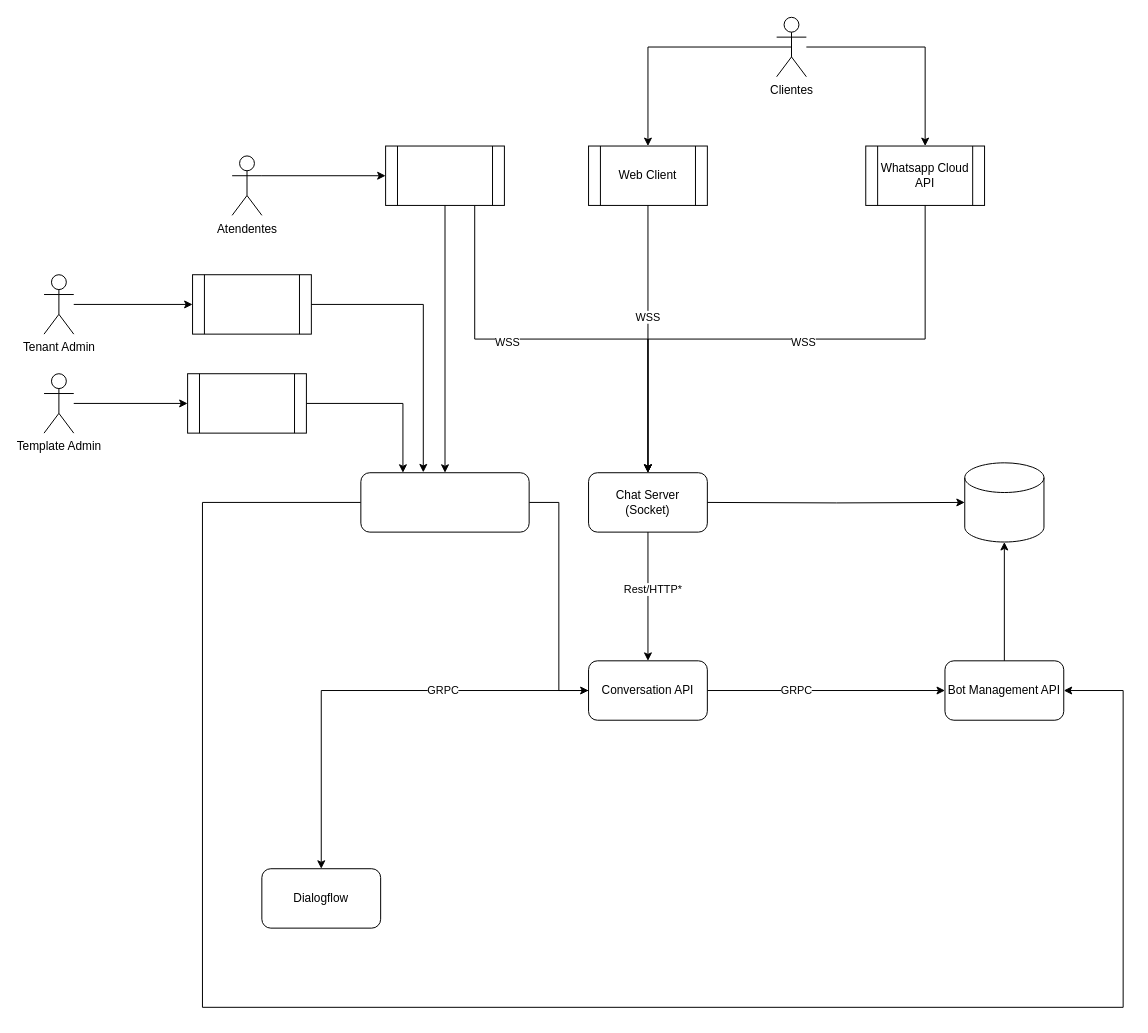
Some shapes in this 1148 by 1033 pixel diagram are drawn without their labels. Each missing label, with the box of its shape:
Admin: (187, 373, 306, 433)
API Gateway: (360, 472, 529, 532)
Dashboard: (192, 274, 311, 334)
FIRESTORE: (964, 462, 1044, 542)
Live Chat: (385, 145, 504, 205)
